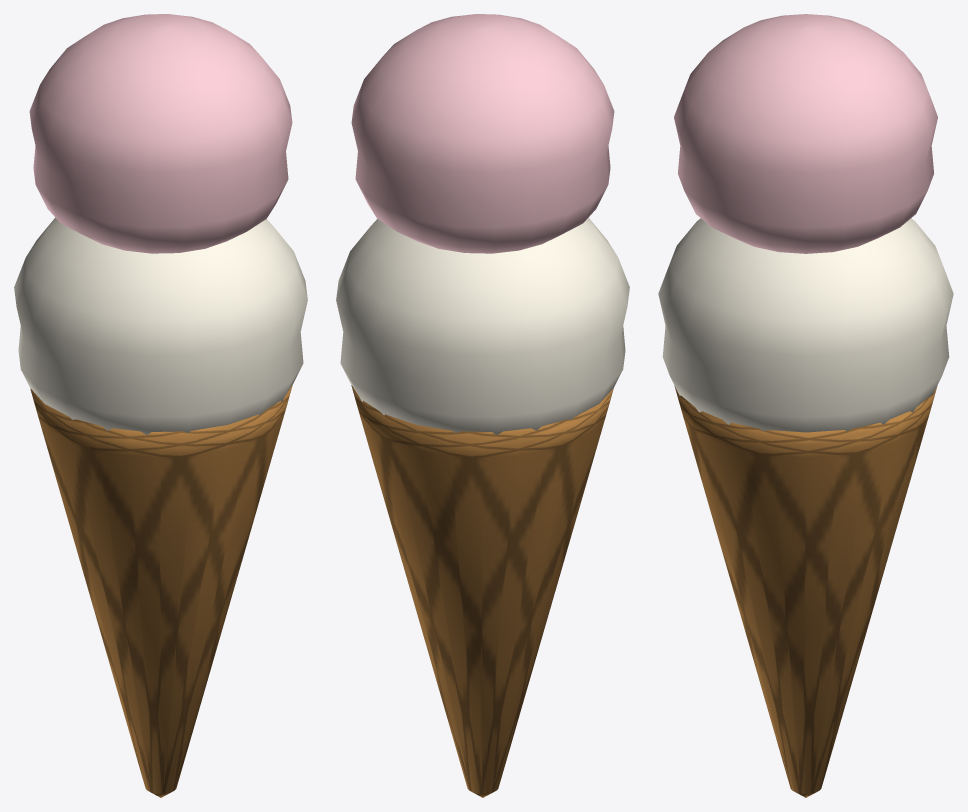
Rendered from ice_cream.glb.
3 views of the same model, side by side, from view 1: azimuth 30°, elevation 25°; view 2: azimuth 150°, elevation 25°; view 3: azimuth 270°, elevation 25° (orthographic).
Visible parts, largest first — view 1: Scoop1, Cone, Scoop0; view 2: Scoop1, Cone, Scoop0; view 3: Scoop1, Cone, Scoop0.
Part boxes in pixels (x1,y1,x2,y2): Scoop1: (29,14,292,253); Cone: (30,385,292,797); Scoop0: (14,217,307,434); Scoop1: (351,14,614,253); Cone: (351,385,613,797); Scoop0: (336,217,629,434); Scoop1: (674,14,937,253); Cone: (674,386,937,797); Scoop0: (658,218,953,432).
Size of the model in its own units: 0.0748 by 0.2156 by 0.0748.
Materials: 3 (1 with a texture image).
